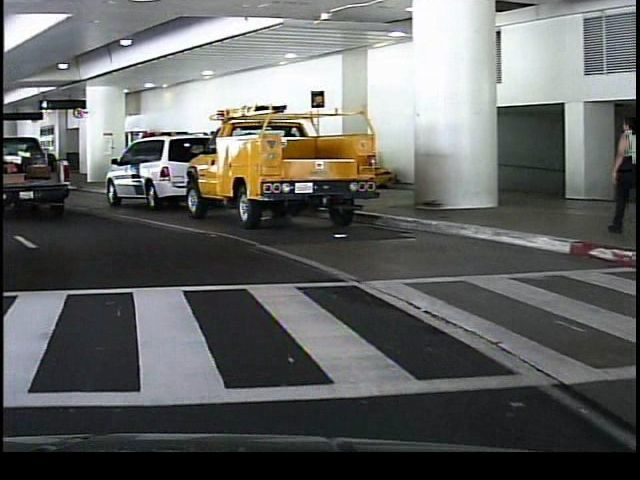person: (600, 109, 640, 238)
